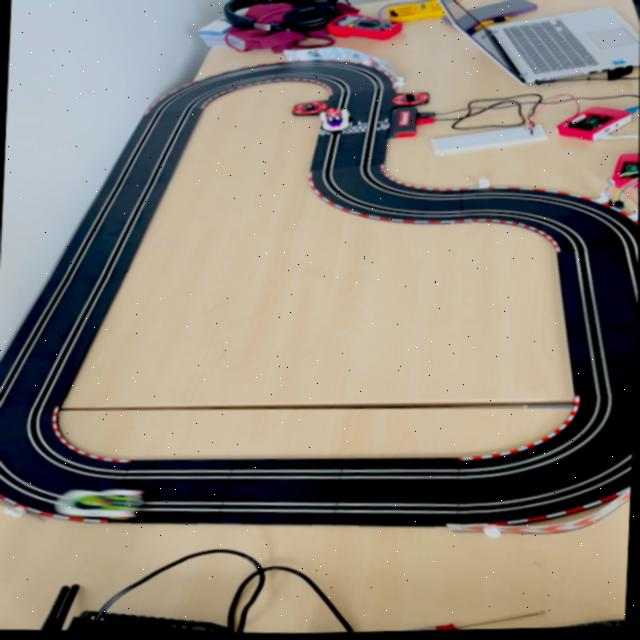mario: (318, 108, 352, 135)
yoshi: (51, 485, 149, 525)
